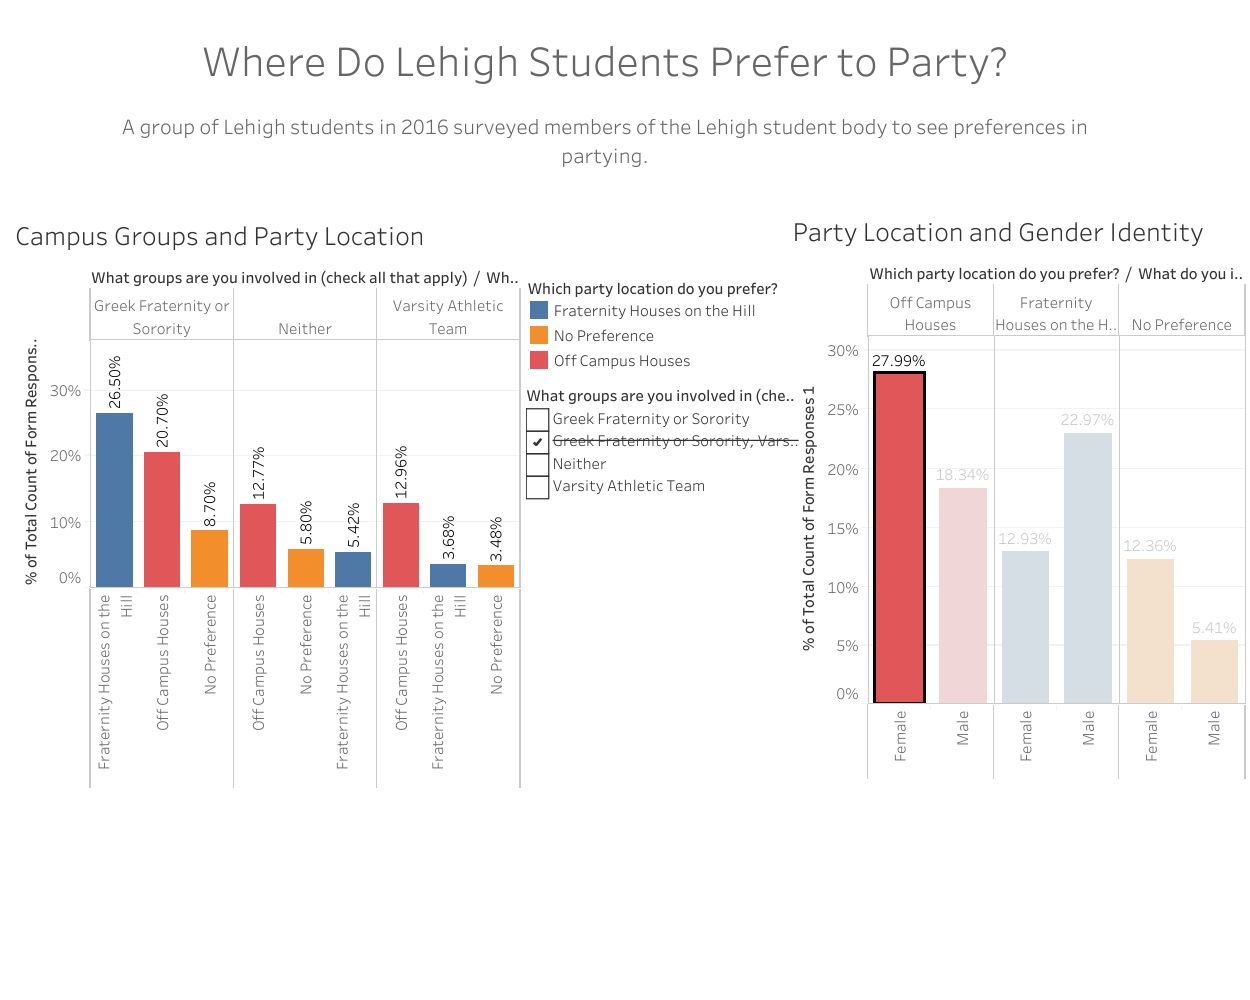

The page's visual inventory and layout, read from the dashboard file:
{"tool":"tableau","page":{"name":"Dashboard: Lehigh Party","canvas":[1000,800],"ordinal":0},"visuals":[{"type":"text","box":[0,0,1000,800]},{"type":"text","box":[70,9,828,142]},{"type":"worksheet","title":"Party Location and Gender Identity","mark":"Automatic","rows":["Form Responses 1_F39F0EF7DE9447BB826CC241DED8B7FE"],"cols":["Which party location do you prefer?","What do you identify as"],"box":[630,165,367,459]},{"type":"worksheet","title":"Campus Groups and Party Location","mark":"Automatic","rows":["Form Responses 1_F39F0EF7DE9447BB826CC241DED8B7FE"],"cols":["What groups are you involved in (check all that apply)","Which party location do you prefer?"],"box":[8,168,409,463]},{"type":"legend","title":"Campus Groups and Party Location","param":"[federated.1hyhw421h8zk6r1b3eus80pbhv0f].[none:Which party location do you prefe","box":[417,215,227,87]},{"type":"filter","title":"Campus Groups and Party Location","param":"[federated.1hyhw421h8zk6r1b3eus80pbhv0f].[none:What groups are you involved in (","box":[417,302,227,133]}]}

Visuals, with their boxes in screenshot pixels (x1, y1, x2, y2), scaled from the page's 1000x800 canvas onto the 1250x1000 screenshot:
text: <box>0,0,1249,999</box>
text: <box>88,11,1122,189</box>
"Party Location and Gender Identity" worksheet: <box>788,206,1246,780</box>
"Campus Groups and Party Location" worksheet: <box>10,210,521,789</box>
"Campus Groups and Party Location" legend: <box>521,269,805,378</box>
"Campus Groups and Party Location" filter: <box>521,378,805,544</box>
